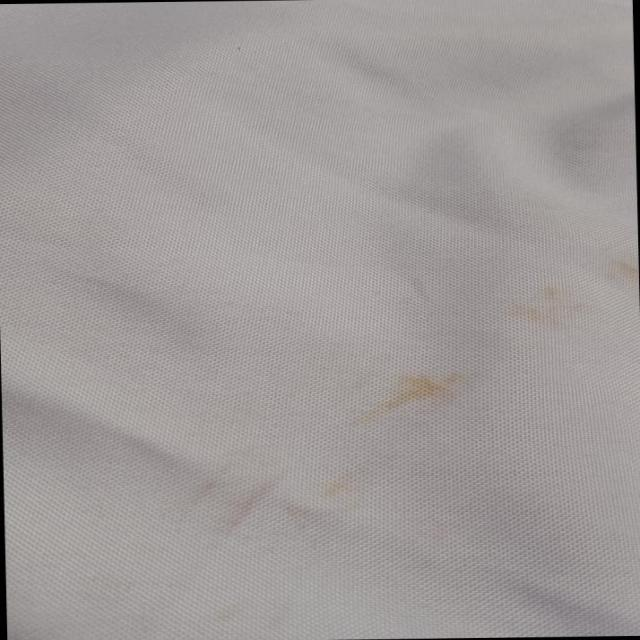stain: (504, 250, 640, 329), (370, 364, 472, 422)
